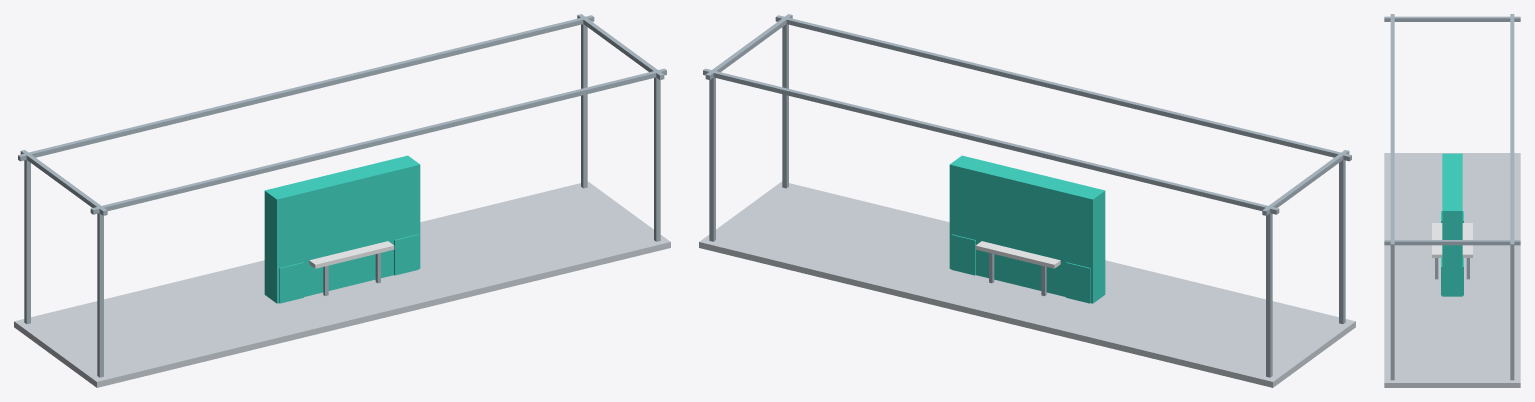
3 views of the same model, side by side, from view 1: azimuth 30°, elevation 25°; view 2: azimuth 150°, elevation 25°; view 3: azimuth 270°, elevation 25° (orthographic). The views are drawn at different scales.
Parts seen in each view (by area): view 1: Exhibition Booth Concept; view 2: Exhibition Booth Concept; view 3: Exhibition Booth Concept.
Part boxes in pixels (bbox=[...]): Exhibition Booth Concept: bbox=[14, 14, 670, 387]; Exhibition Booth Concept: bbox=[699, 14, 1355, 387]; Exhibition Booth Concept: bbox=[1384, 14, 1520, 387].
Bounding box in the file's own units: 12 × 3.49 × 3.
